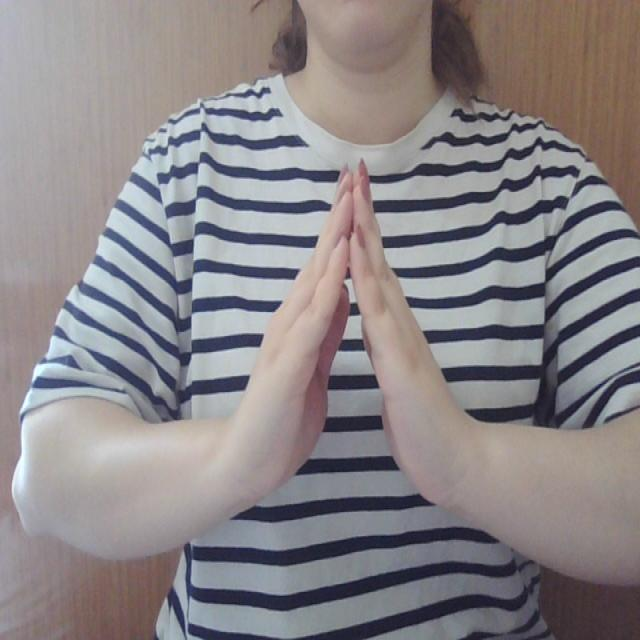Ev: (233, 153, 472, 502)
